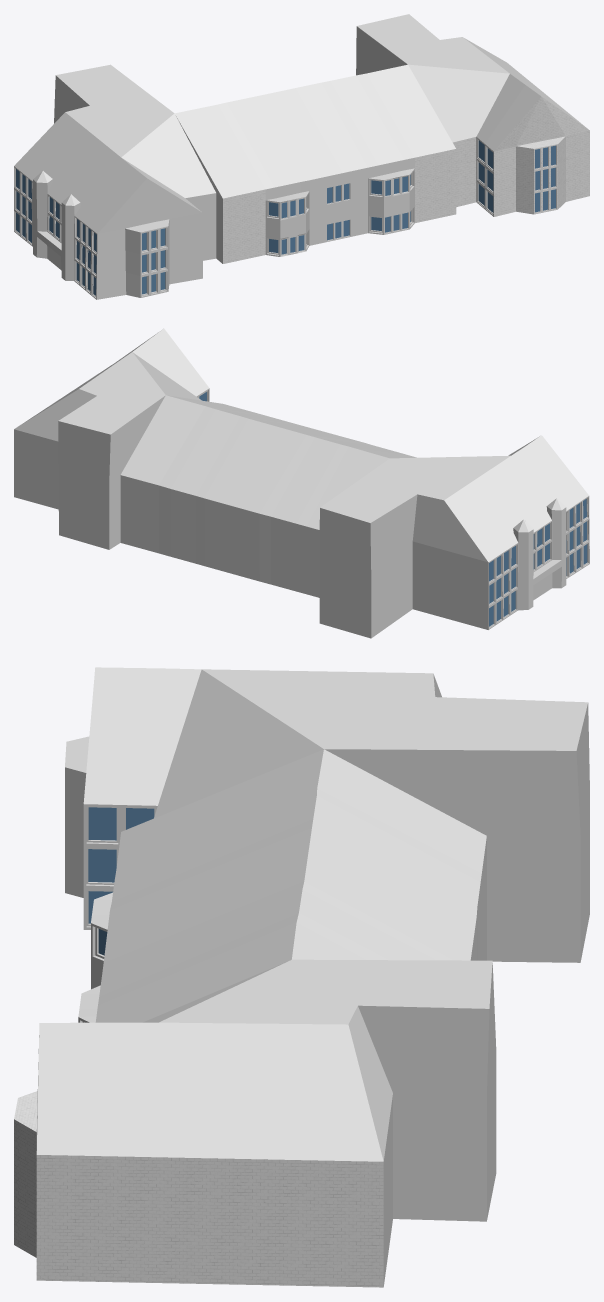
The model's file is HartmanTexturedV0.5.gltf.
The picture shows the model from 3 angles, top to bottom: view 1: azimuth 30°, elevation 25°; view 2: azimuth 150°, elevation 25°; view 3: azimuth 270°, elevation 25°; orthographic projection. The views are drawn at different scales.
Visible parts, largest first — view 1: HartmannCenter_0; view 2: HartmannCenter_0; view 3: HartmannCenter_0.
Boxes of the visible parts, x1=… form: HartmannCenter_0: x1=14, y1=14, x2=589, y2=299; HartmannCenter_0: x1=14, y1=328, x2=589, y2=638; HartmannCenter_0: x1=14, y1=667, x2=589, y2=1287.
Bounding box in the file's own units: 57.61 × 12.56 × 30.71.
Materials: 3 (2 with a texture image).
